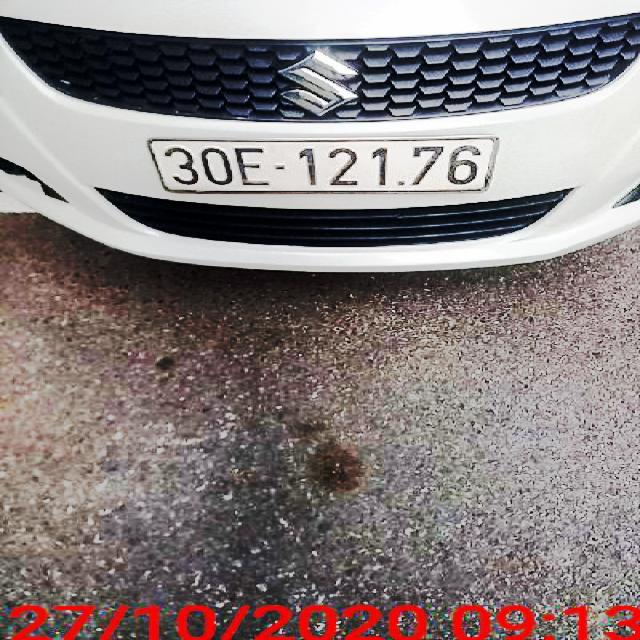license_plate: (152, 137, 499, 192)
